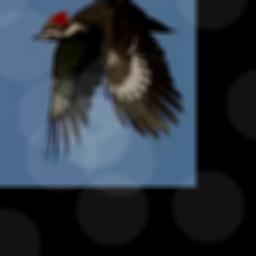Woodpecker: (32, 0, 183, 169)
